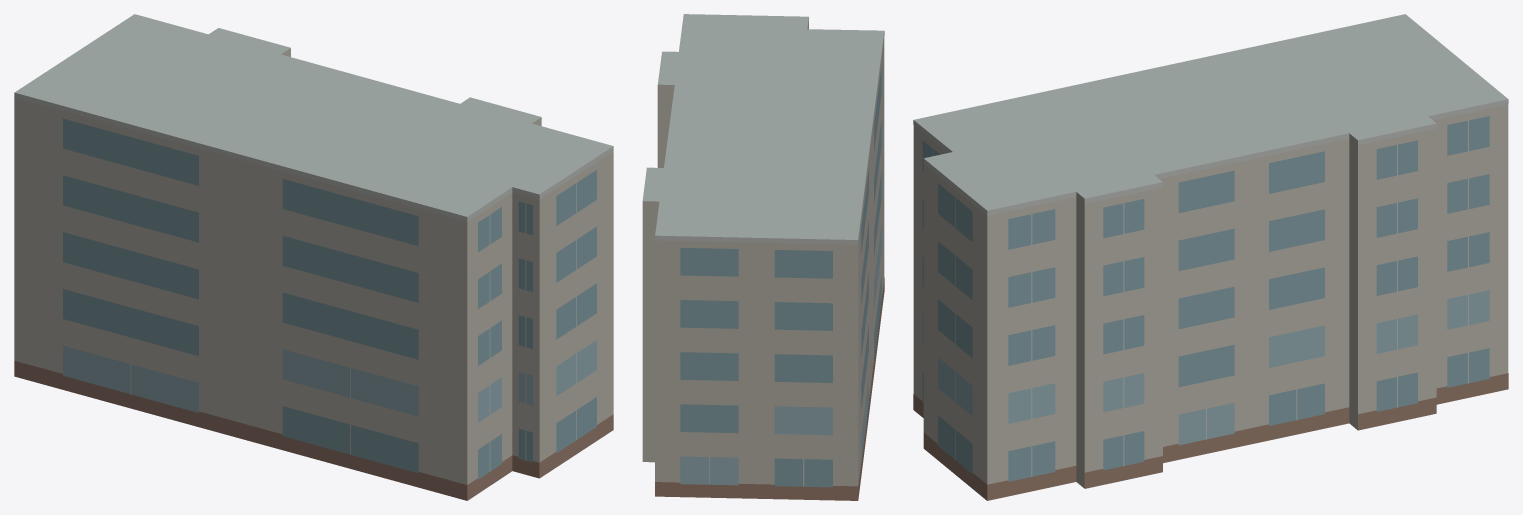
The model's file is survey-upis-32985982.glb.
The picture shows the model from 3 angles, left to right: view 1: azimuth 30°, elevation 25°; view 2: azimuth 150°, elevation 25°; view 3: azimuth 270°, elevation 25°; orthographic projection. The views are drawn at different scales.
Visible parts, largest first — view 1: survey-upis-32985982.tmp; view 2: survey-upis-32985982.tmp; view 3: survey-upis-32985982.tmp.
Boxes of the visible parts, x1,y1,x2,y2 form: survey-upis-32985982.tmp: [14, 14, 613, 500]; survey-upis-32985982.tmp: [642, 14, 884, 500]; survey-upis-32985982.tmp: [913, 14, 1508, 500].
Size of the model in its own units: 19.64 by 13.5 by 25.1.
